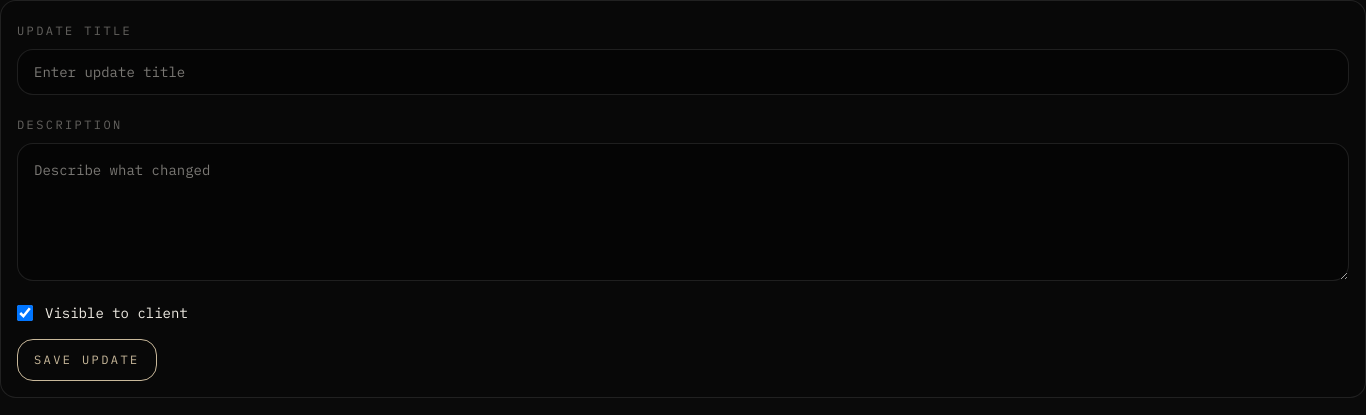
Test case: AddUpdateForm › resets fields after successful submit
This screenshot has width=1366, height=415.
Type "Launch prep" into the field with placeholder "Enter update title".
click(683, 72); type("Launch prep")  # box 17,49 -> 1349,95
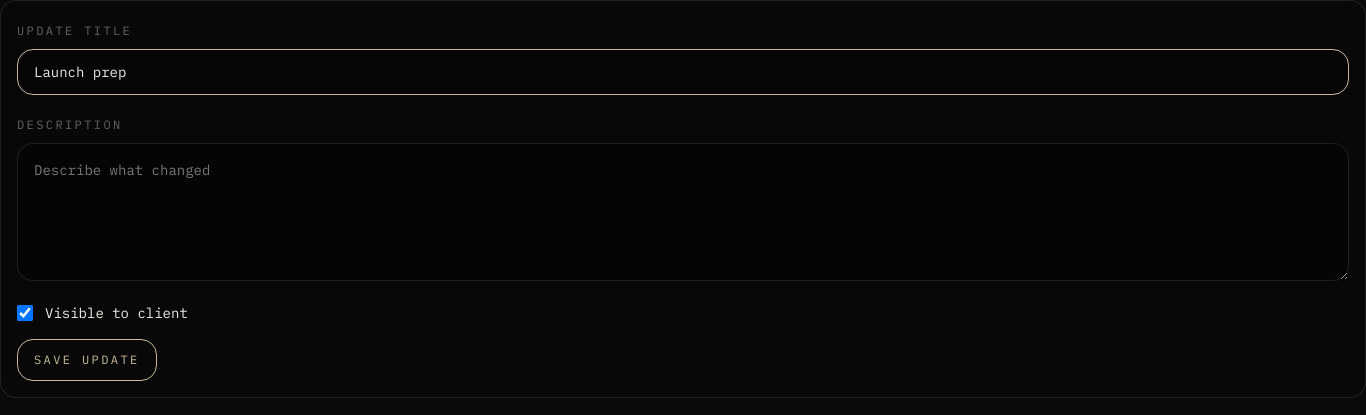
Type "QA complete" into the text box with placeholder "Describe what changed".
click(683, 212); type("QA complete")  # box 17,143 -> 1349,281
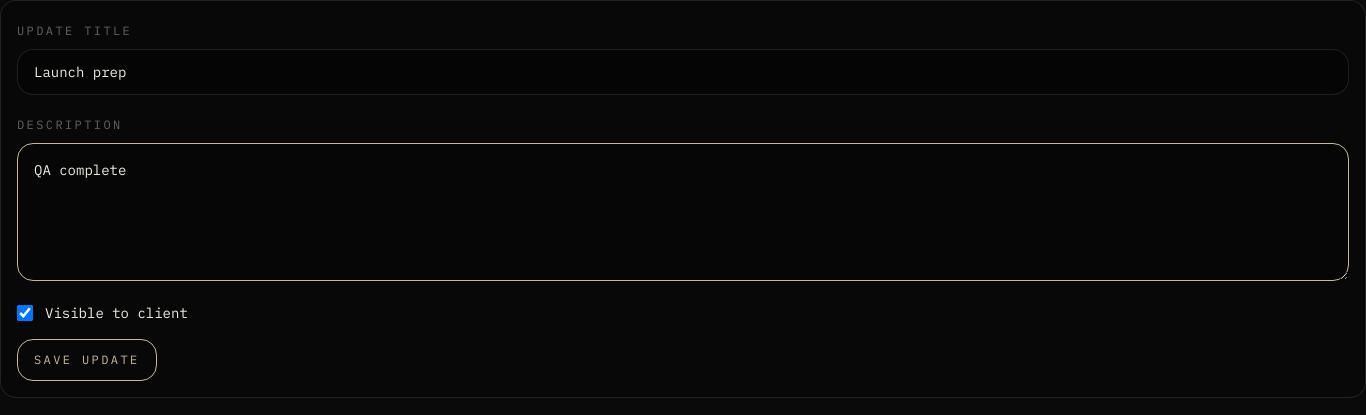
Click the checkbox labelled "Visible to client".
click(25, 313)  # box 17,305 -> 33,321
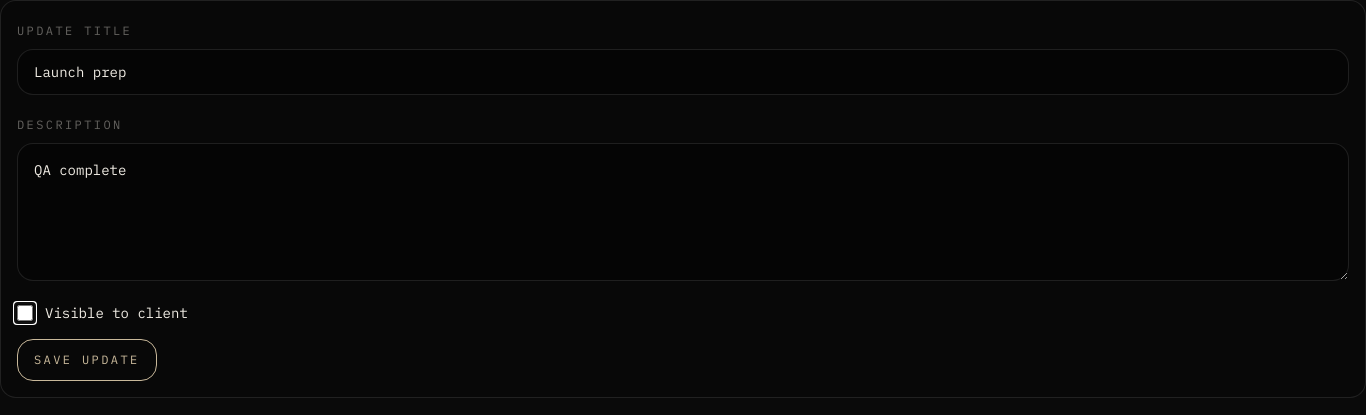
Click the button "Save Update".
click(87, 360)  # box 17,339 -> 157,381
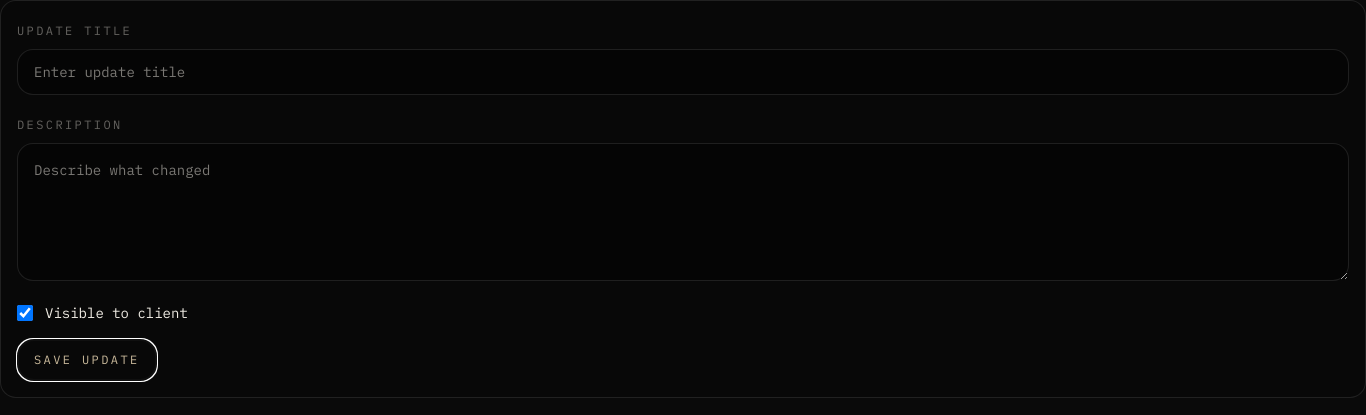
Expected: the checkbox labelled "Visible to client" is checked, 17,305 -> 33,321
Expected: the field with placeholder "Enter update title" is empty, 17,49 -> 1349,95
Expected: the text box with placeholder "Describe what changed" is empty, 17,143 -> 1349,281
